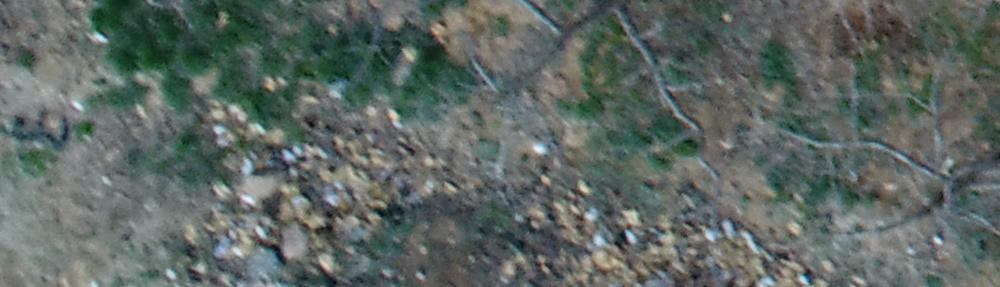apple: (756, 51, 990, 277)
